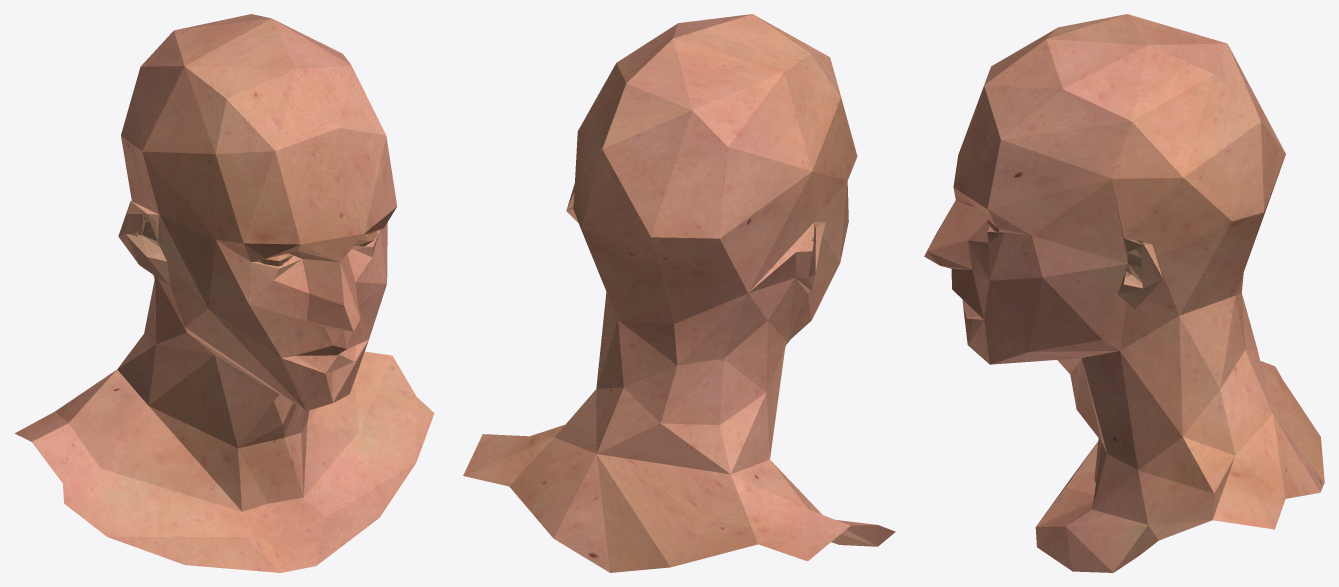
Rendered from skinnedHead.gltf.
3 views of the same model, side by side, from view 1: azimuth 30°, elevation 25°; view 2: azimuth 150°, elevation 25°; view 3: azimuth 270°, elevation 25° (orthographic). The views are drawn at different scales.
Parts seen in each view (by area): view 1: 0dcf062f88e741beac28166787231306; view 2: 0dcf062f88e741beac28166787231306; view 3: 0dcf062f88e741beac28166787231306.
Boxes of the visible parts, x1,y1,x2,y2 form: 0dcf062f88e741beac28166787231306: [15, 14, 434, 572]; 0dcf062f88e741beac28166787231306: [463, 14, 895, 572]; 0dcf062f88e741beac28166787231306: [924, 14, 1324, 572].
Bounding box in the file's own units: 25.9 × 33.71 × 24.12.
1 material, 1 textured.
